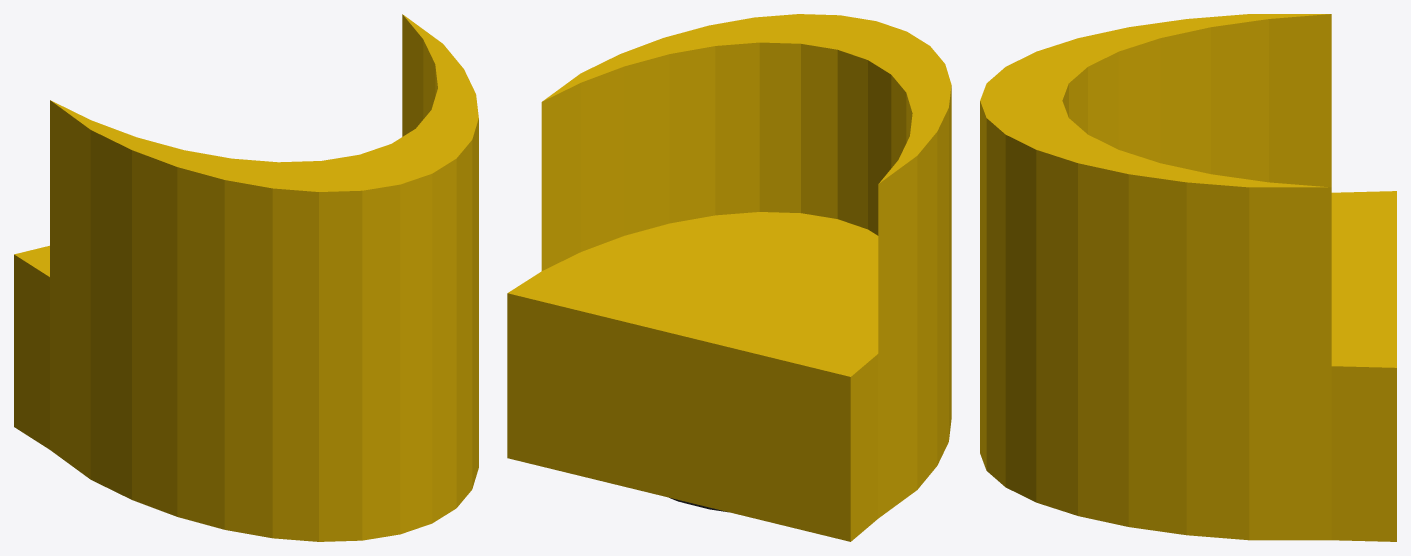
File: Yellow_Spin_Chair.fbx
The picture shows the model from 3 angles, left to right: view 1: azimuth 30°, elevation 25°; view 2: azimuth 150°, elevation 25°; view 3: azimuth 270°, elevation 25°; orthographic projection. The views are drawn at different scales.
Visible parts, largest first — view 1: Cylinder; view 2: Cylinder; view 3: Cylinder.
Boxes of the visible parts, x1,y1,x2,y2 form: Cylinder: (14,14,478,541); Cylinder: (507,14,951,541); Cylinder: (980,14,1396,541).
Size of the model in its own units: 229 by 223 by 228.
